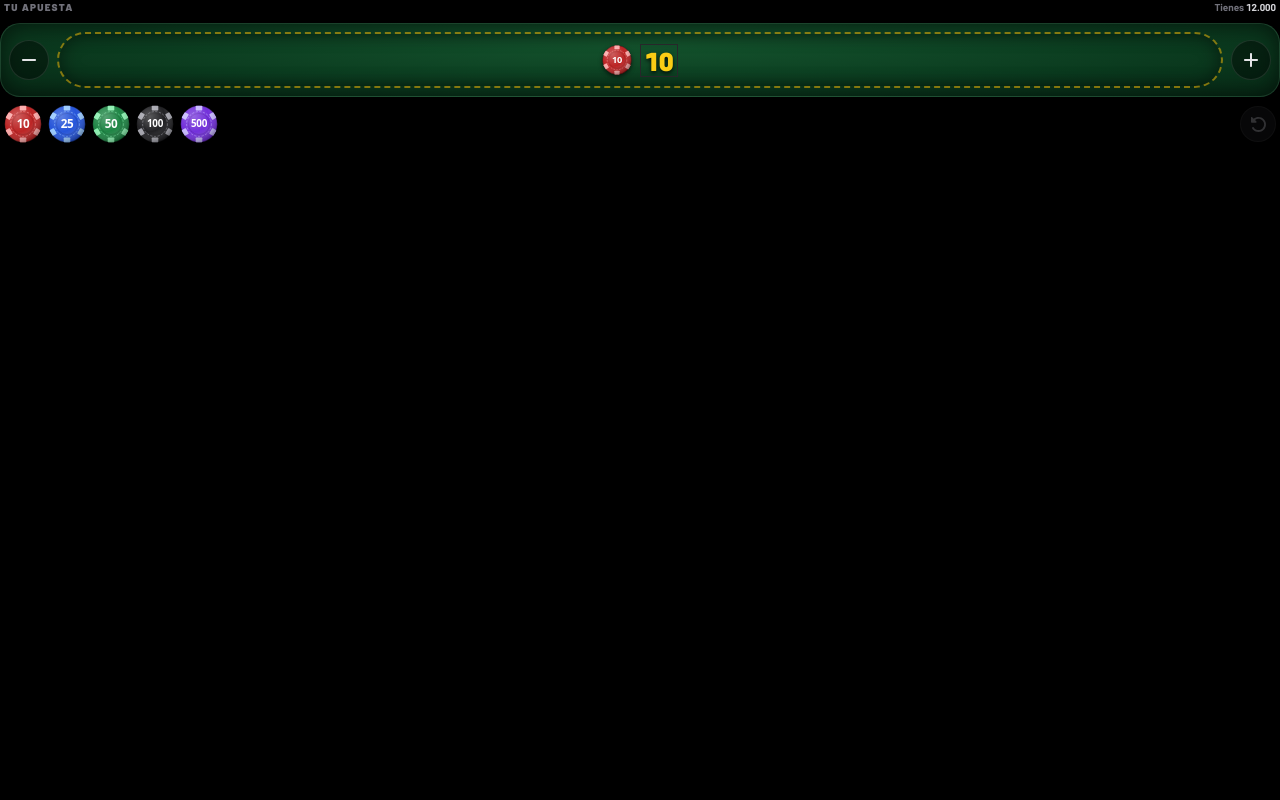
SelectorApuesta › EL TOPE SE APLICA AL TECLEAR: no te puedes pasar de tu saldo
Click the field named "Cantidad apostada": (659, 60) [640,44,678,76]
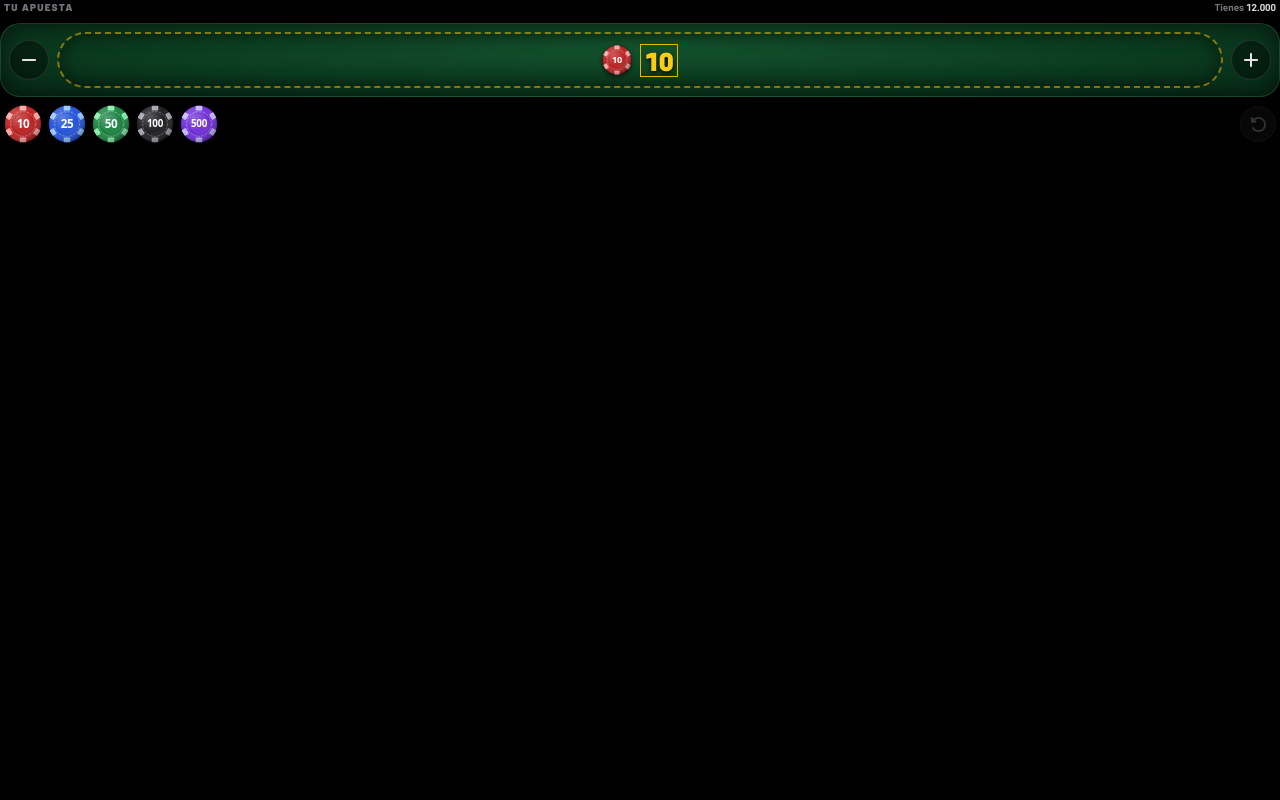
Type keys "999999"
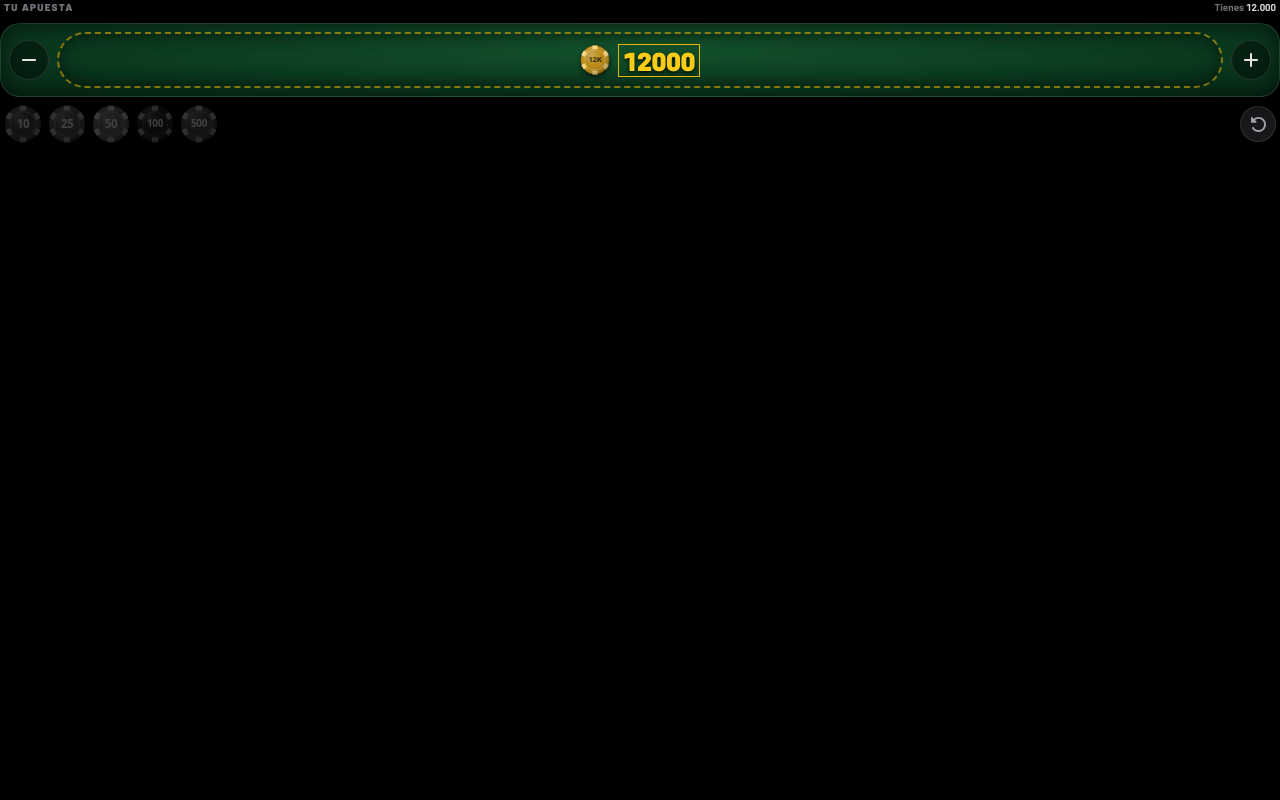
Expected: the field named "Cantidad apostada" holds "12000", [618,44,700,76]
